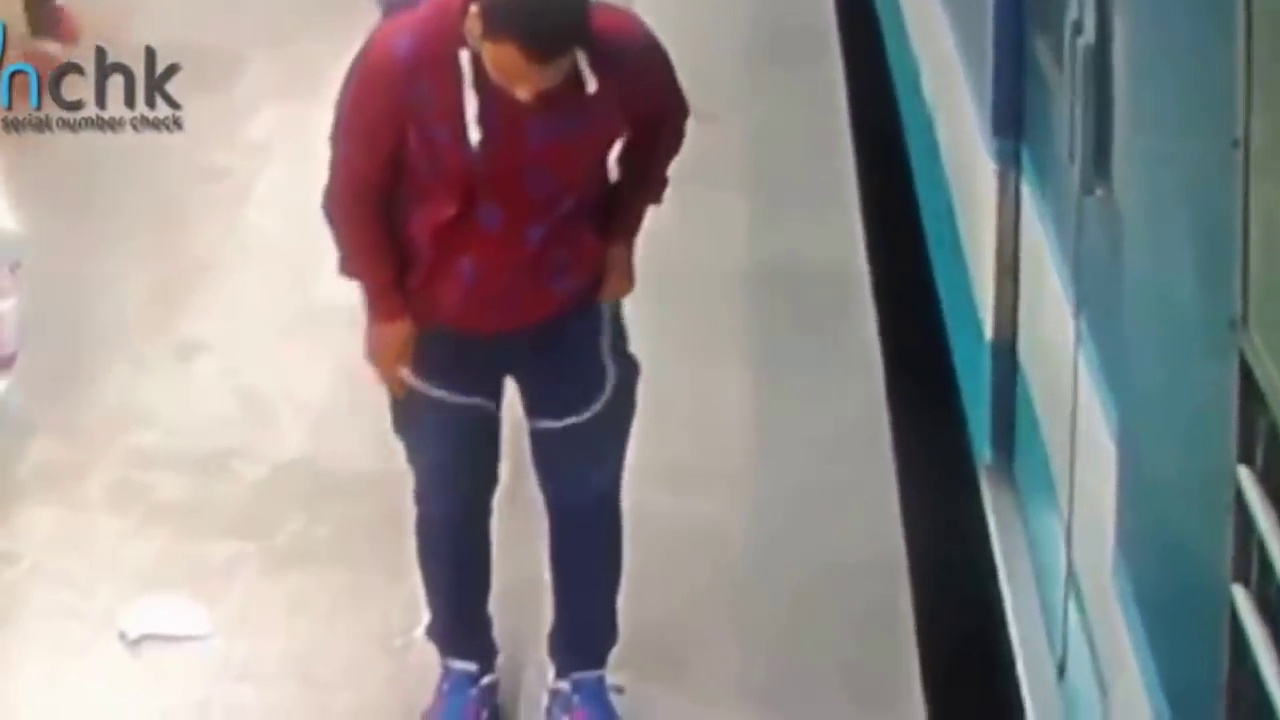face: (486, 44, 572, 107)
